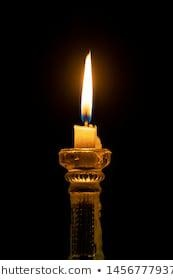fire: (79, 46, 94, 123)
